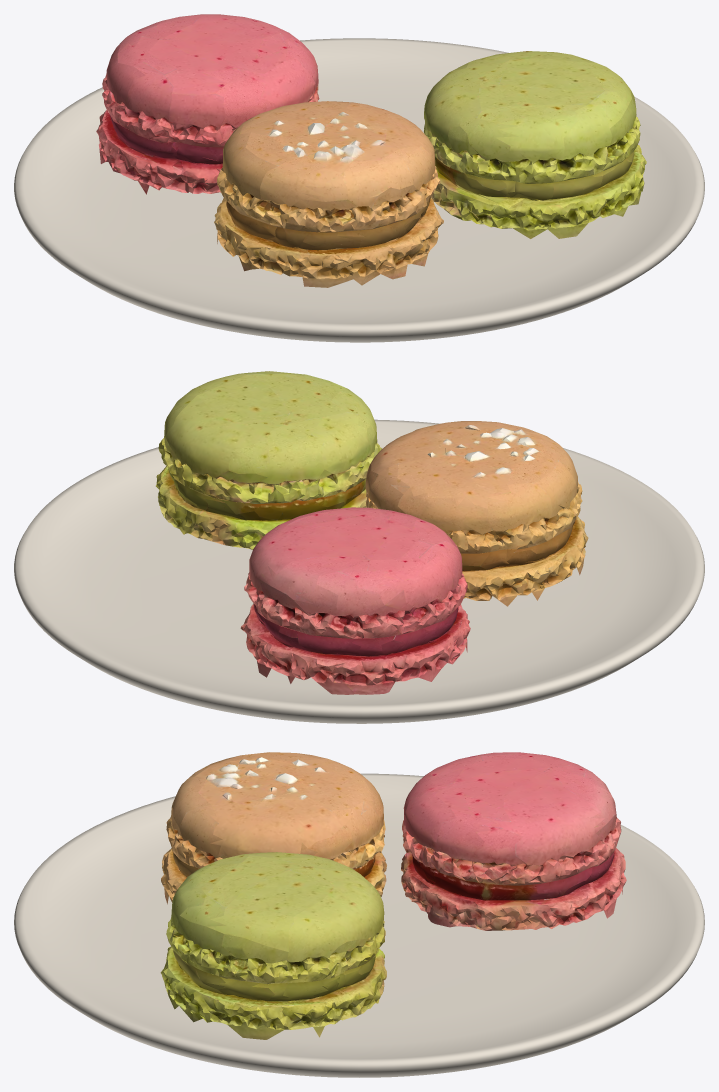
Rendered from macarons.glb.
3 renders of one model, top to bottom at view 1: azimuth 30°, elevation 25°; view 2: azimuth 150°, elevation 25°; view 3: azimuth 270°, elevation 25°, orthographic.
Parts seen in each view (by area): view 1: Mesh_0, Ivory plate; view 2: Mesh_0, Ivory plate; view 3: Mesh_0, Ivory plate.
Boxes of the visible parts, box(x1,y1,x2,y2) form: Mesh_0: box(96, 14, 646, 287); Ivory plate: box(14, 38, 704, 342); Mesh_0: box(156, 371, 588, 694); Ivory plate: box(14, 419, 704, 723); Mesh_0: box(160, 752, 626, 1039); Ivory plate: box(14, 773, 704, 1077).
Bounding box in the file's own units: 1.83 × 0.4325 × 1.83.
2 materials, 1 textured.
